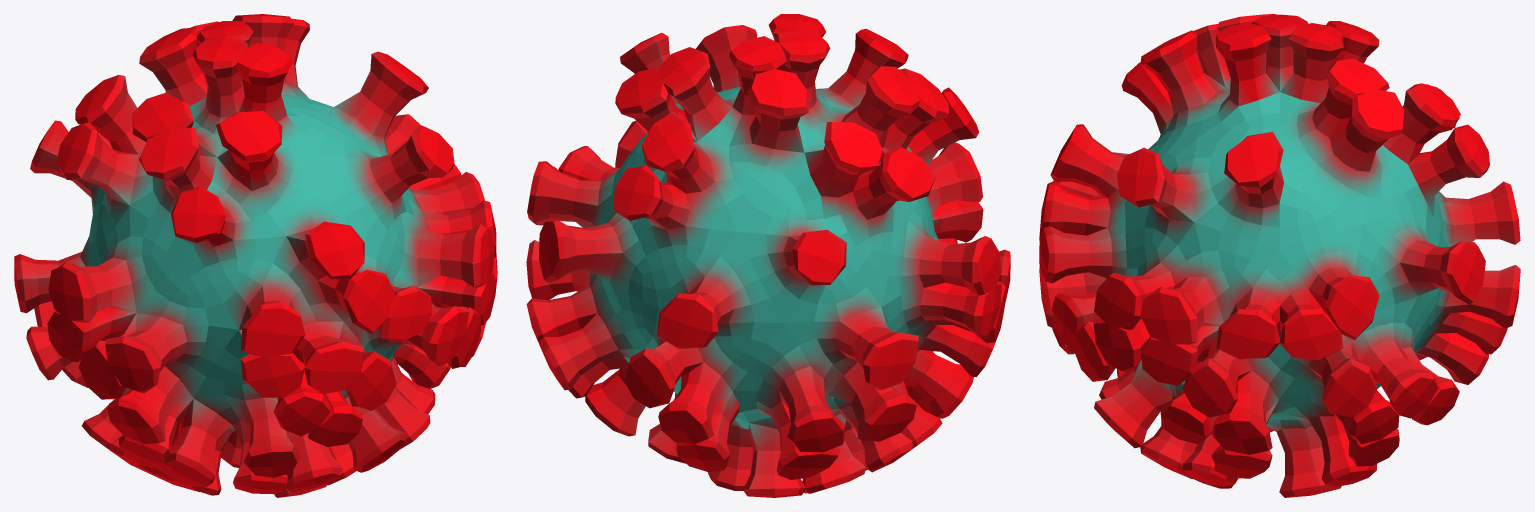
Rendered from virus.gltf.
3 renders of one model, left to right at view 1: azimuth 30°, elevation 25°; view 2: azimuth 150°, elevation 25°; view 3: azimuth 270°, elevation 25°, orthographic.
Visible parts, largest first — view 1: Icosphere; view 2: Icosphere; view 3: Icosphere.
Part boxes in pixels (<box>): Icosphere: <box>14,14,497,497</box>; Icosphere: <box>526,14,1010,497</box>; Icosphere: <box>1039,14,1520,497</box>.
Size of the model in its own units: 4.43 by 4.42 by 4.39.
1 material, 1 textured.
